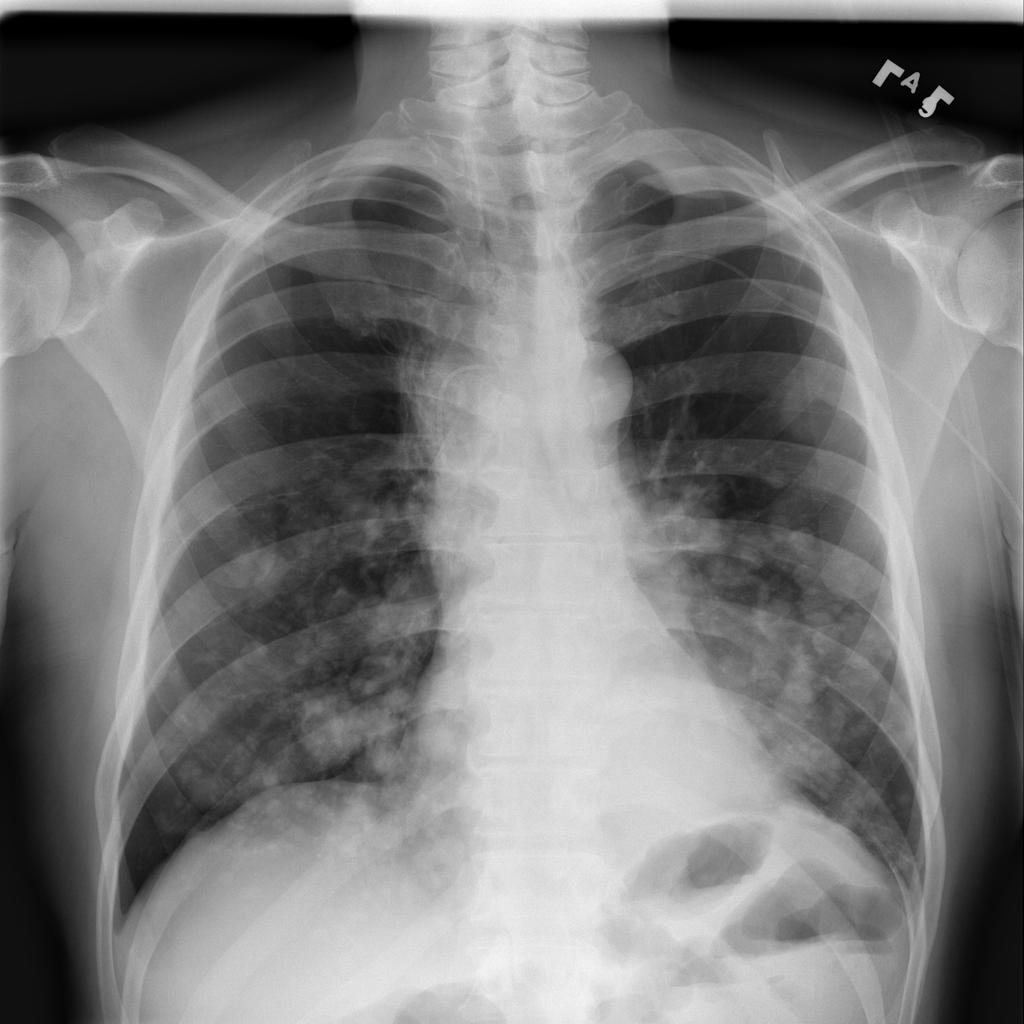nodule: (198, 513, 322, 622), (283, 687, 363, 765), (765, 362, 842, 443), (155, 756, 233, 830), (402, 707, 474, 775), (751, 454, 802, 504), (773, 515, 827, 561)
